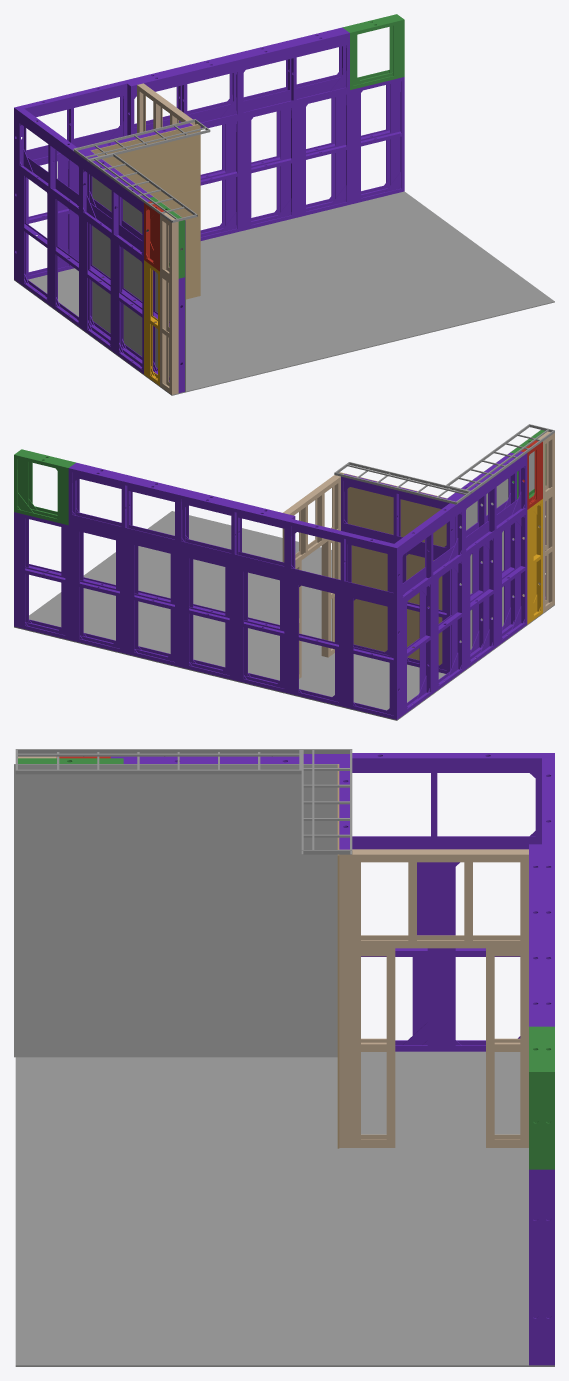
The picture shows the model from 3 angles, top to bottom: view 1: azimuth 30°, elevation 25°; view 2: azimuth 150°, elevation 25°; view 3: azimuth 270°, elevation 25°; orthographic projection. The views are drawn at different scales.
Visible parts, largest first — view 1: Пол 16 мм, Body18 (×14), Body17 (×9), DSP 16mm (×2), MDF 6mm (×2), Body23 (×2), Торец 2, Body15, Body20; view 2: Body18 (×24), Пол 16 мм, Body17 (×20), DSP 16mm (×2), Body22 (×12), Body15 (×11), MDF 6mm (×2), Body23, Body19, end A, Body13, 40x20x2 1 (+5 smaller); view 3: Пол 16 мм, MDF 6mm (×2), Body16 (×4), Body17 (×2), Body15 (×6), MDF 6mm 300x1880, Body18 (×2), upright 2-1 (×2), upright 2-2 (×2), Panel 4 (×2), MDF 6mm 300x1136, Body23 (×2) (+8 smaller).
Part boxes in pixels (x1,y1,x2,y2): Пол 16 мм: [14, 191, 554, 395]; Body18 (×14): [17, 77, 400, 352]; Body17 (×9): [21, 33, 360, 261]; DSP 16mm (×2): [91, 124, 200, 299]; MDF 6mm (×2): [92, 176, 185, 391]; Body23 (×2): [144, 107, 295, 375]; Торец 2: [172, 279, 177, 394]; Body15: [179, 277, 184, 392]; Body20: [393, 23, 404, 75]; Body18 (×24): [14, 454, 525, 713]; Пол 16 мм: [14, 511, 554, 720]; Body17 (×20): [61, 466, 520, 707]; DSP 16mm (×2): [339, 472, 446, 665]; Body22 (×12): [65, 468, 527, 716]; Body15 (×11): [69, 463, 524, 719]; MDF 6mm (×2): [460, 452, 534, 649]; Body23: [527, 509, 533, 620]; Body19: [57, 469, 68, 521]; end A: [322, 541, 327, 657]; Body13: [536, 505, 540, 611]; 40x20x2 1: [334, 472, 456, 504]; Пол 16 мм: [15, 1051, 554, 1366]; MDF 6mm (×2): [14, 793, 337, 1057]; Body16 (×4): [123, 753, 553, 1365]; Body17 (×2): [352, 836, 535, 1045]; Body15 (×6): [340, 753, 553, 1026]; MDF 6mm 300x1880: [14, 764, 216, 793]; Body18 (×2): [352, 753, 535, 1035]; upright 2-1 (×2): [386, 956, 528, 1139]; upright 2-2 (×2): [352, 956, 494, 1139]; Panel 4 (×2): [340, 854, 350, 1147]; MDF 6mm 300x1136: [216, 764, 338, 793]; Body23 (×2): [333, 758, 535, 1045].
Bounding box in the file's own units: 7 × 3.06 × 5.02.
